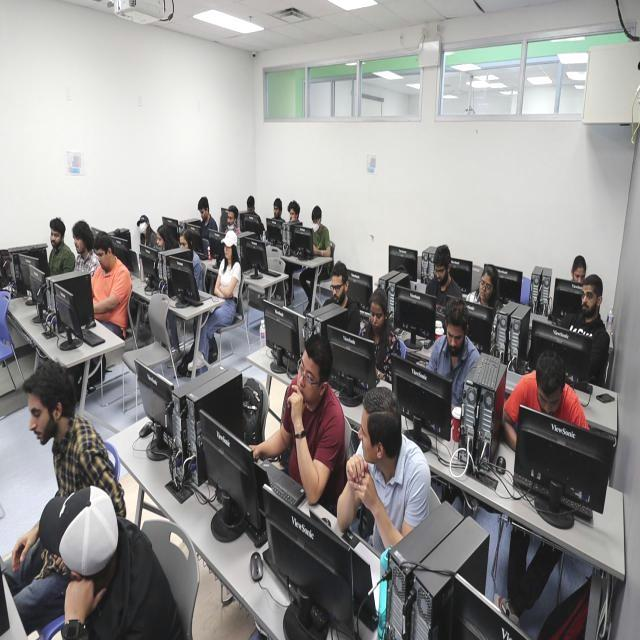Looking away: (358, 398, 378, 468), (532, 376, 564, 418), (27, 393, 52, 446), (446, 318, 467, 356), (329, 276, 347, 306), (478, 272, 493, 304), (369, 300, 384, 332), (95, 246, 110, 276), (433, 259, 448, 285), (570, 265, 586, 288), (72, 228, 84, 252), (198, 204, 207, 224), (180, 236, 190, 250)
Looking forward: (296, 346, 320, 403), (581, 279, 598, 317), (51, 224, 61, 248), (154, 230, 166, 250), (223, 240, 233, 264)
